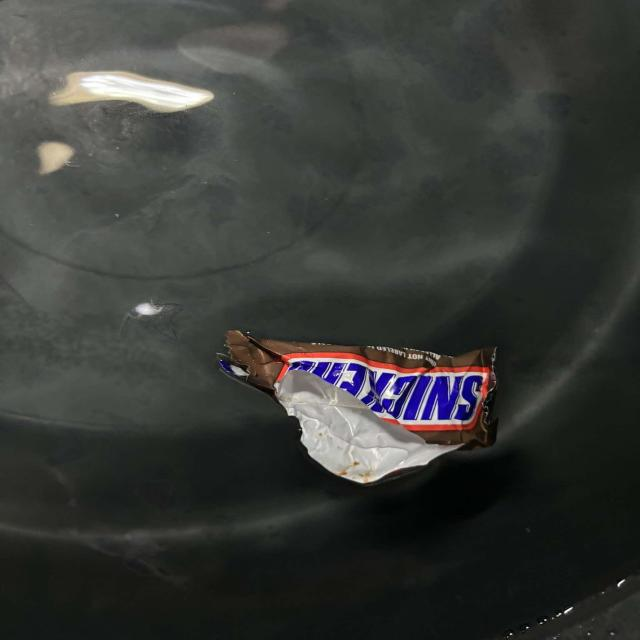Plastic Wrapper: (204, 318, 515, 494)
